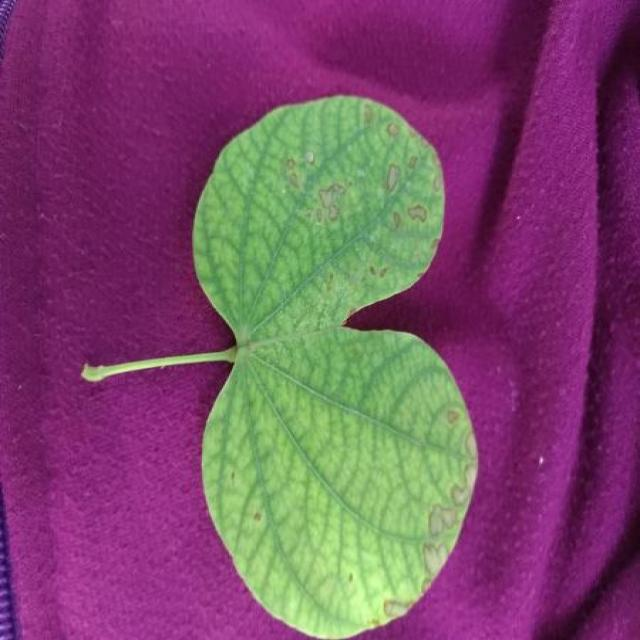Kambajala: (83, 96, 477, 638)
